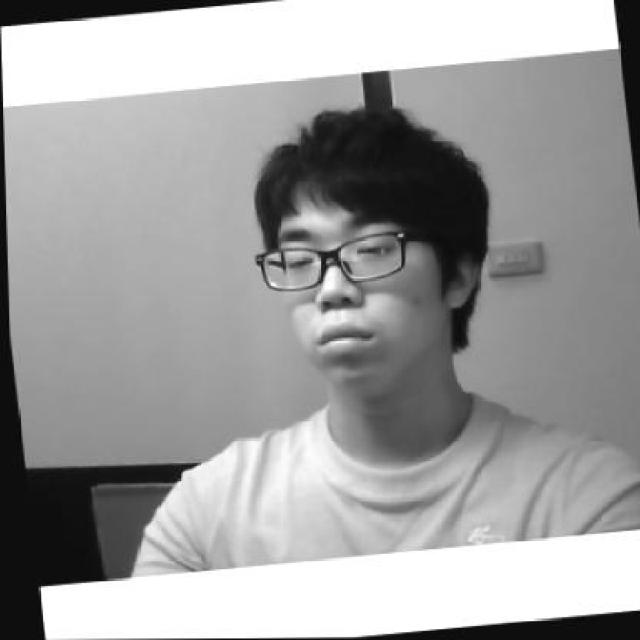inattentif: (238, 94, 492, 400)
